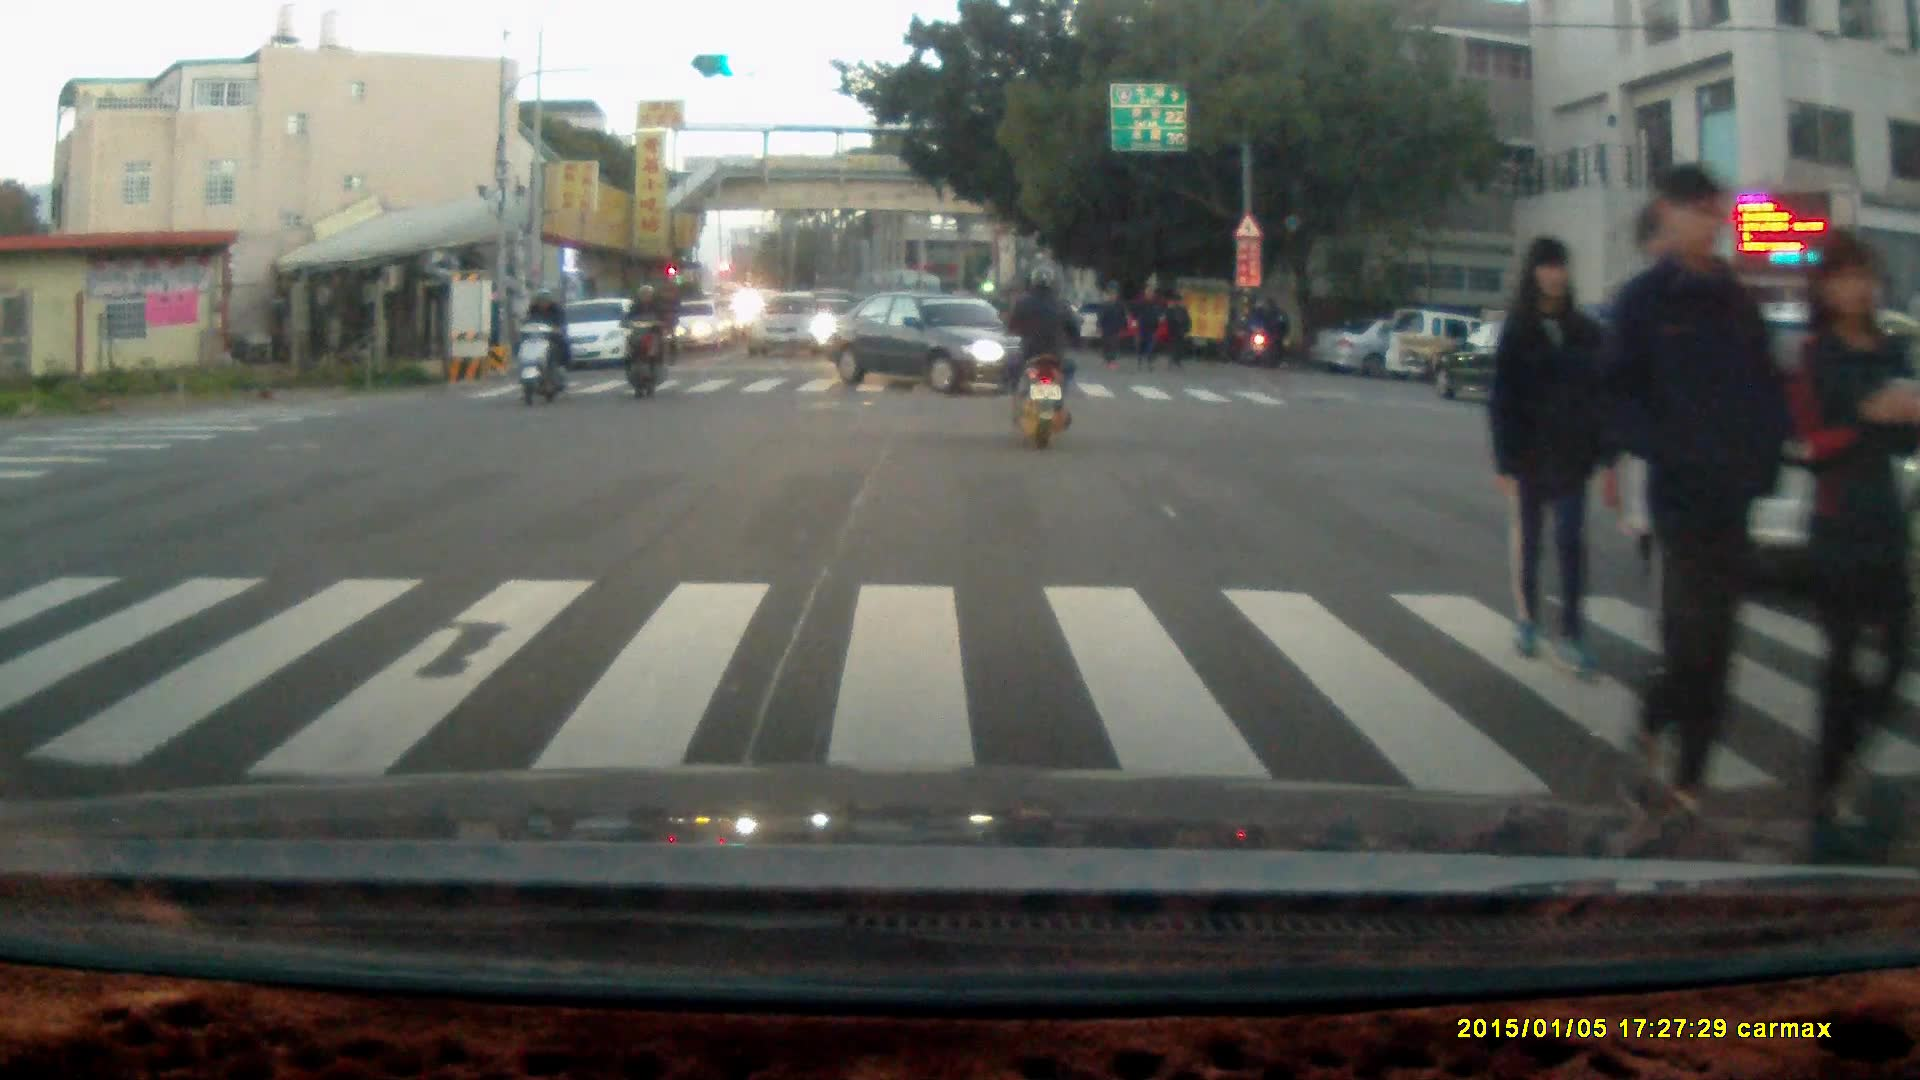pedestrian: (1595, 163, 1789, 839), (1785, 232, 1911, 826), (1485, 232, 1621, 684), (1129, 282, 1161, 378), (1158, 290, 1190, 378), (1256, 291, 1287, 368), (1094, 287, 1124, 369)
rider: (1003, 260, 1083, 450), (511, 280, 570, 406), (613, 278, 672, 400), (1234, 300, 1272, 365)
vehicle: (1629, 303, 1920, 621), (816, 284, 1069, 396), (1426, 313, 1560, 408), (1315, 310, 1487, 384), (545, 296, 654, 370), (747, 293, 831, 361)
